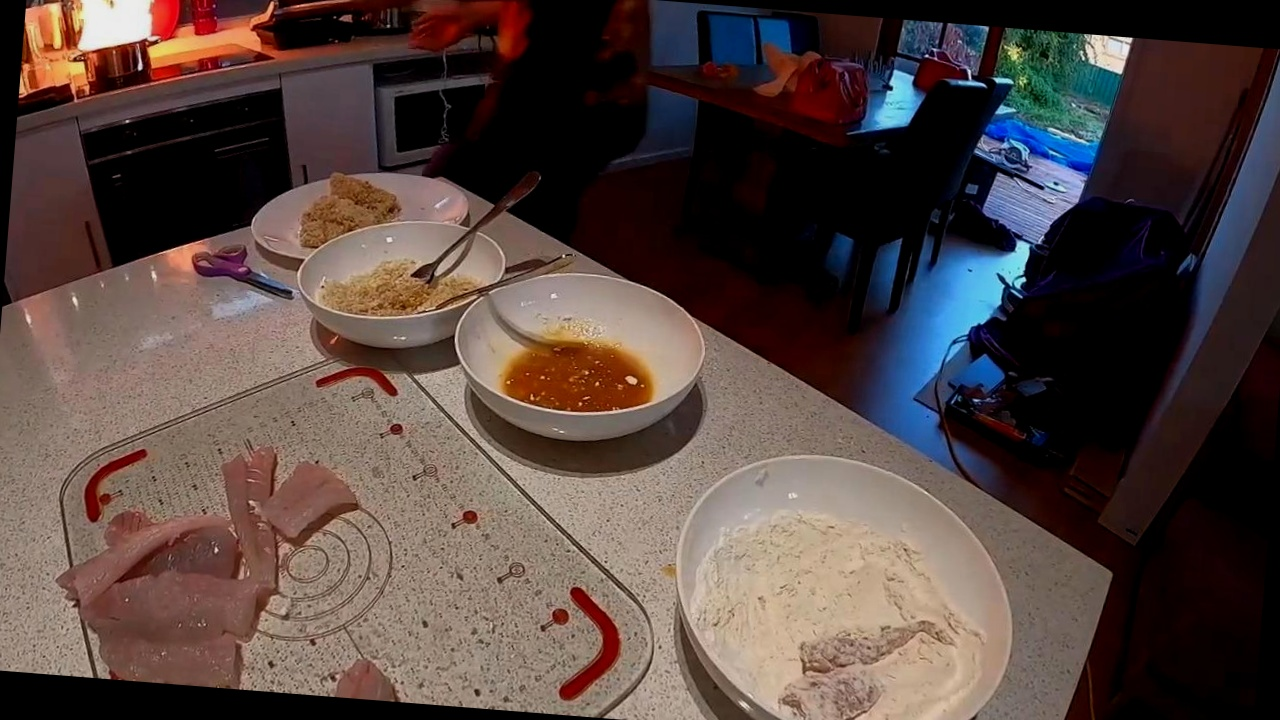fire: (57, 0, 223, 106)
